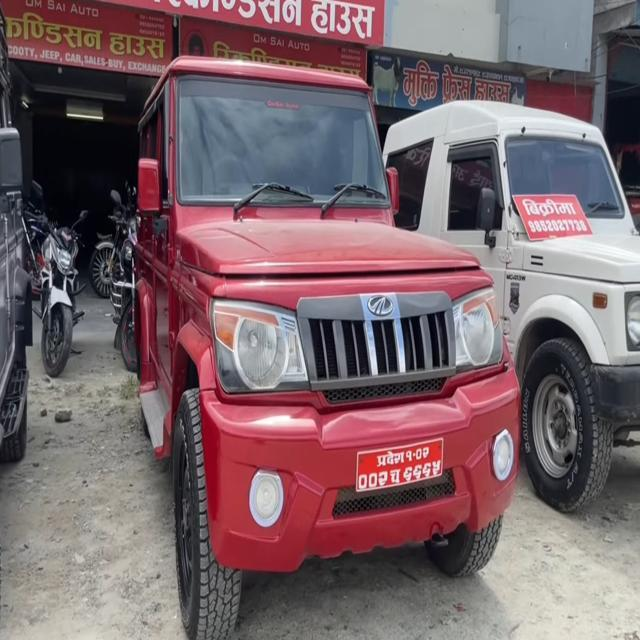license_plate: (13, 184, 113, 380), (331, 436, 456, 496)
